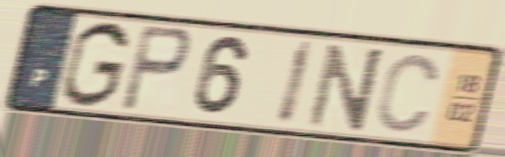6: (192, 34, 250, 118)
C: (374, 51, 444, 136)
G: (58, 18, 133, 111)
I: (272, 37, 318, 130)
N: (305, 41, 388, 133)
P: (116, 22, 194, 116)
